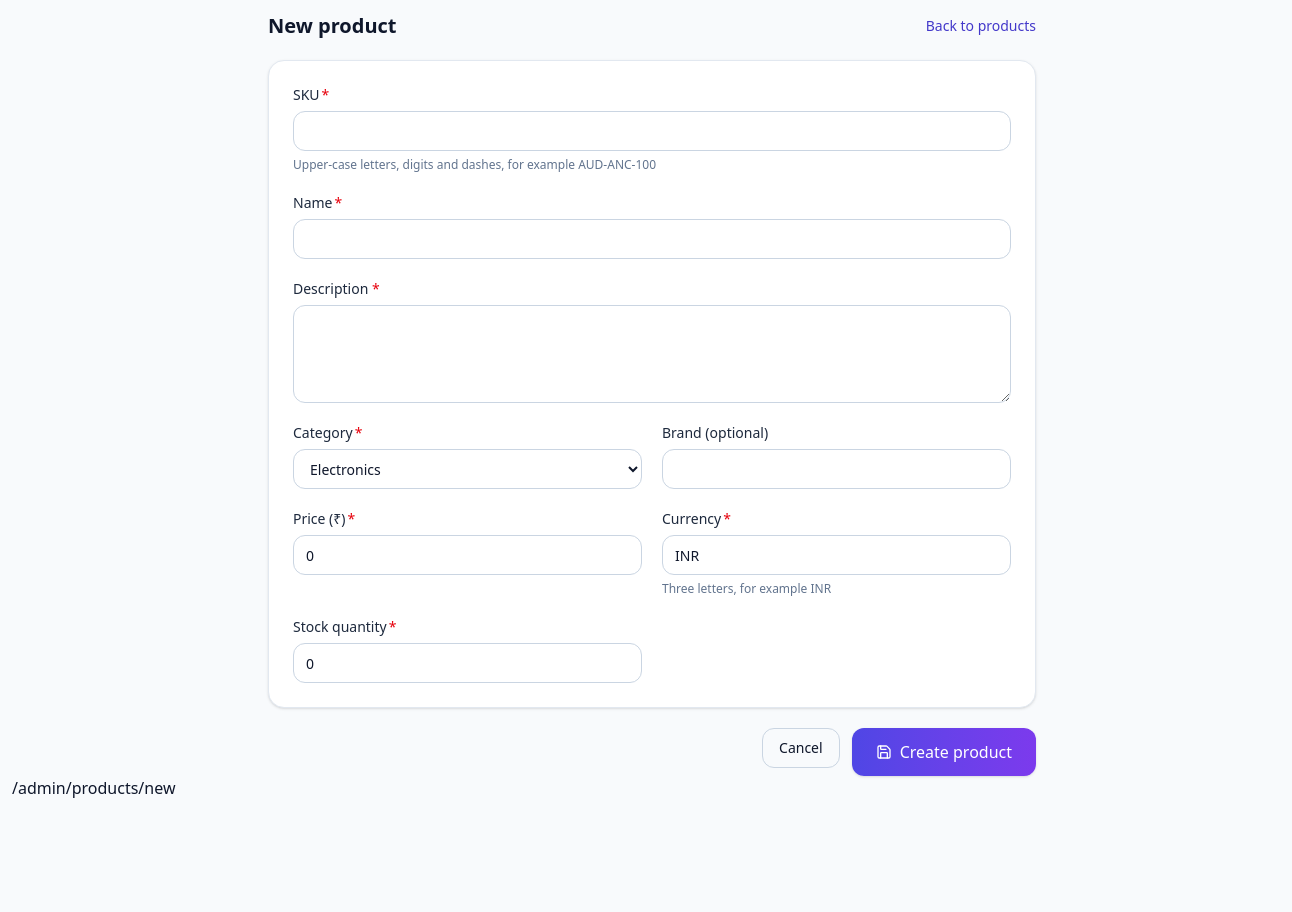
ProductFormPage (admin) › shows the backend validation messages for empty required fields
Click the button "Create product": (944, 752) [852,728,1036,776]
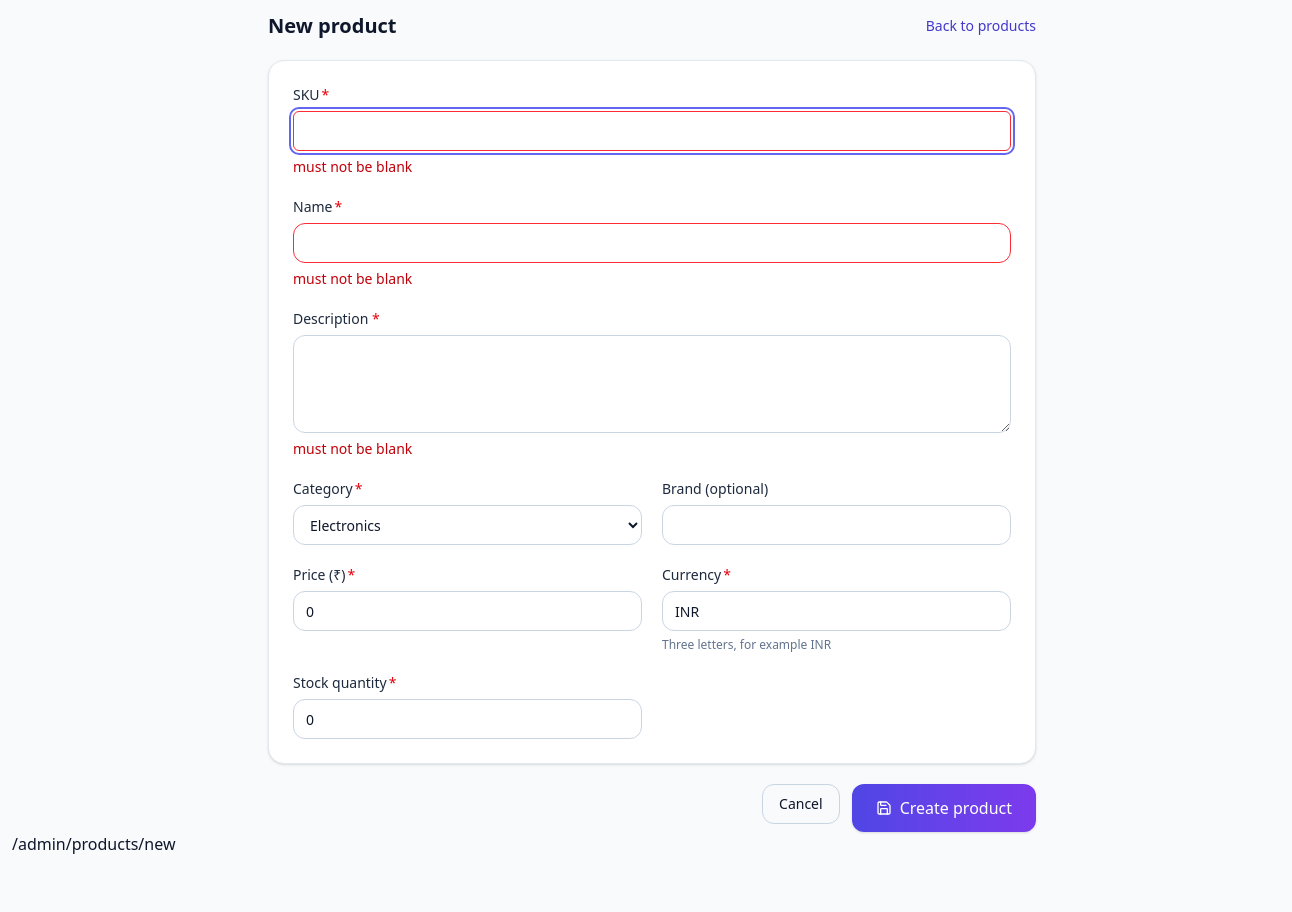
Expected: the text "must not be blank" below "SKU" is shown, [293,157,412,176]
